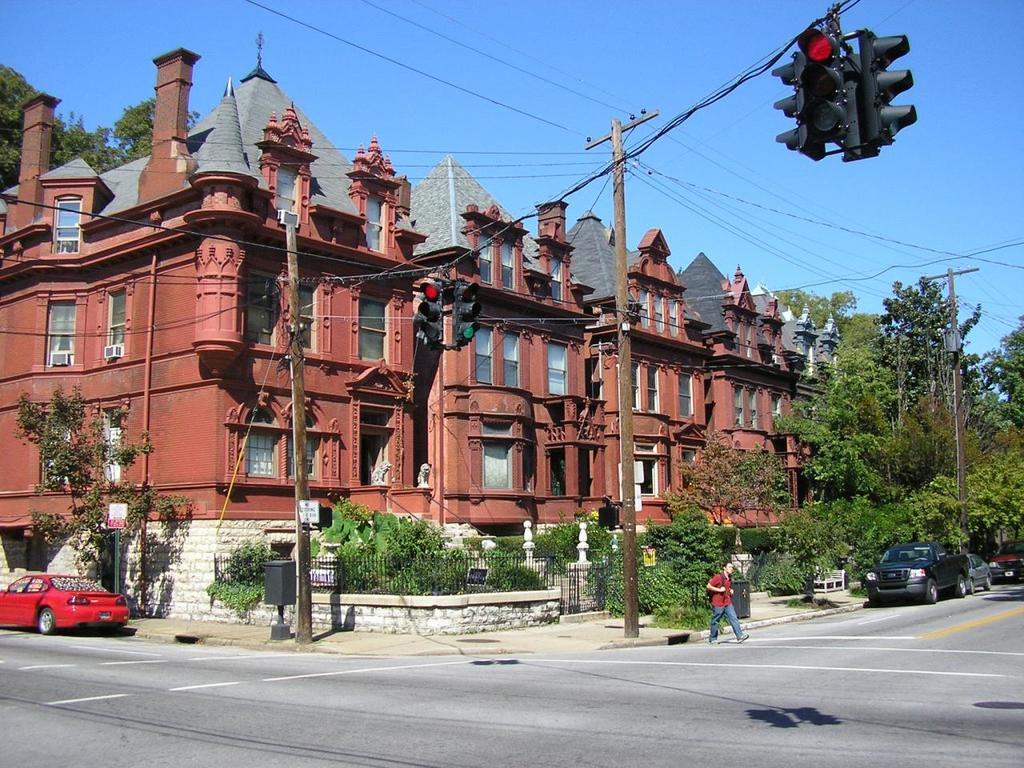red_light: (800, 30, 852, 144), (418, 281, 443, 345)
